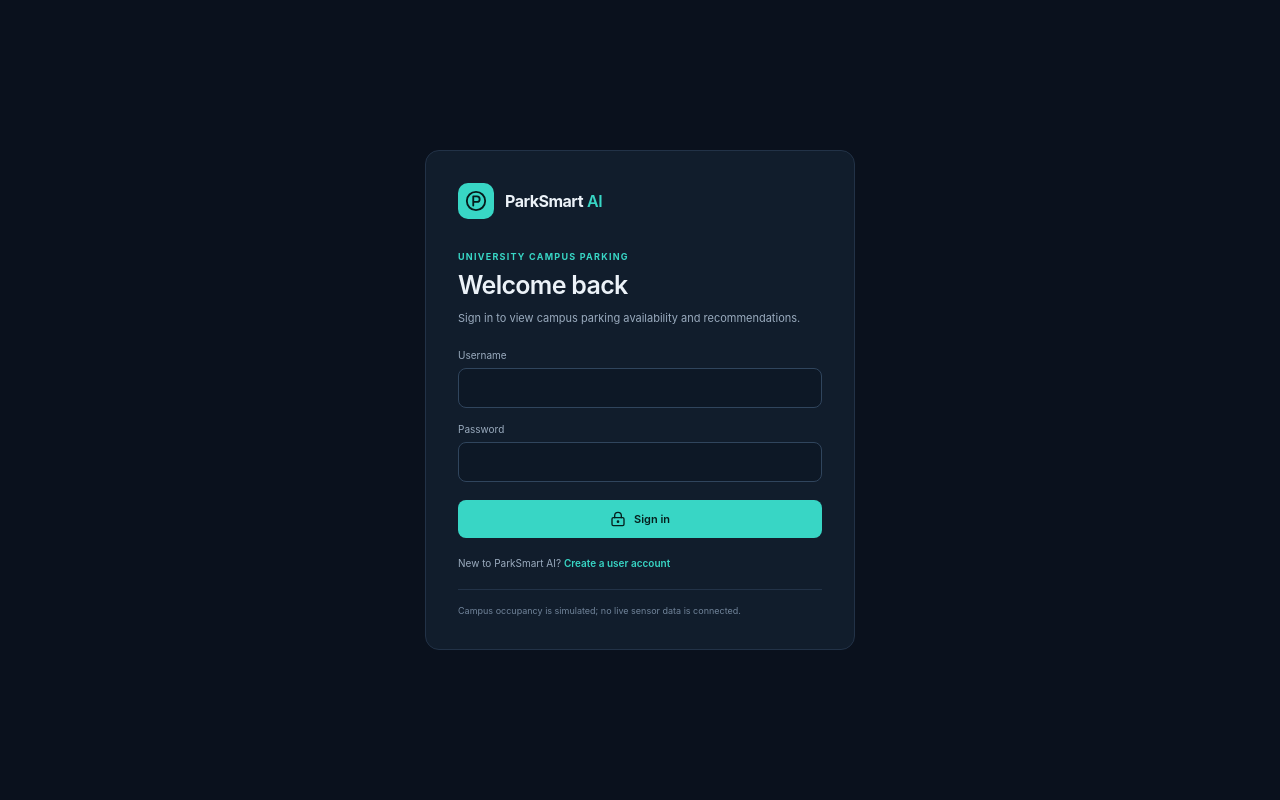
Test: ParkSmart campus dashboard › redirects unauthenticated visitors to login and admins to the admin portal
Expected: the heading "Welcome back" is shown, [458,270,628,300]
Type "campus-admin" into the field labelled "Username" at (640, 388), box [458,368,822,408]
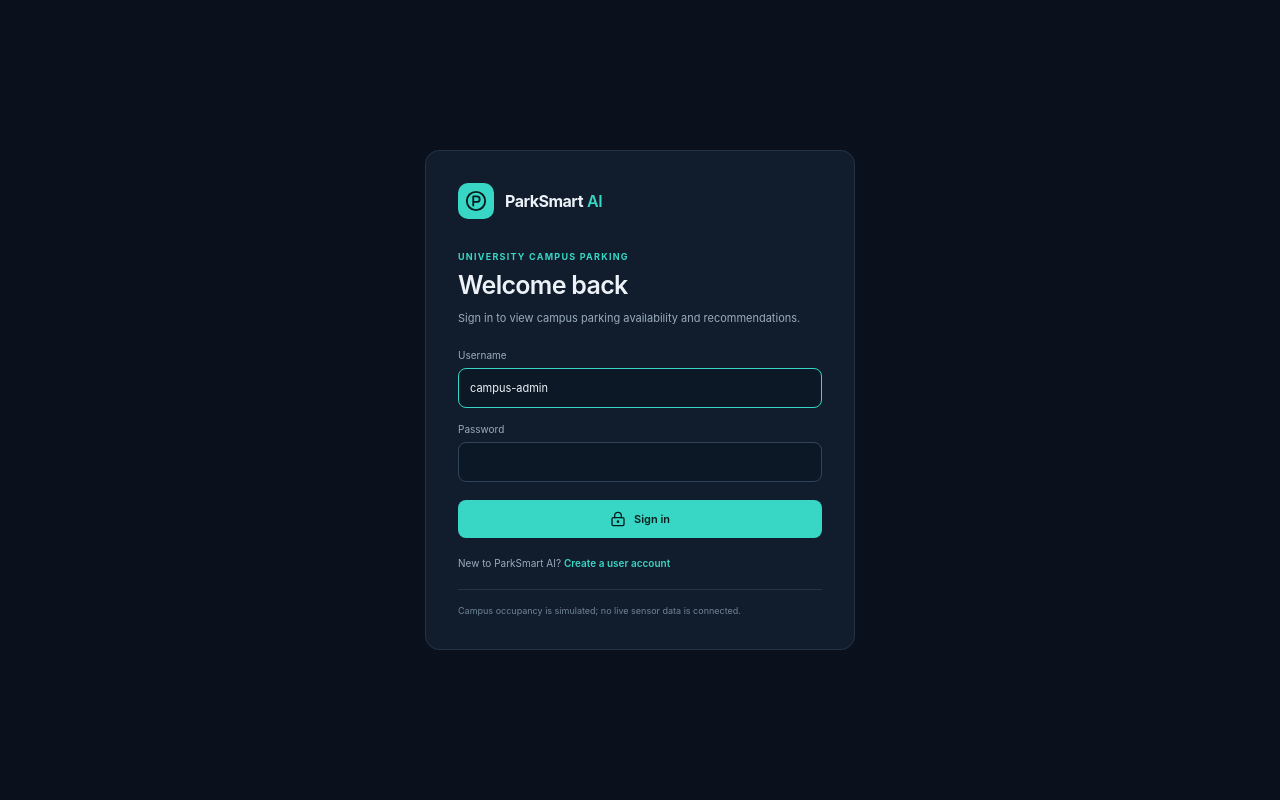
Type "password-for-test" into the password field labelled "Password" at (640, 462), box [458,442,822,482]
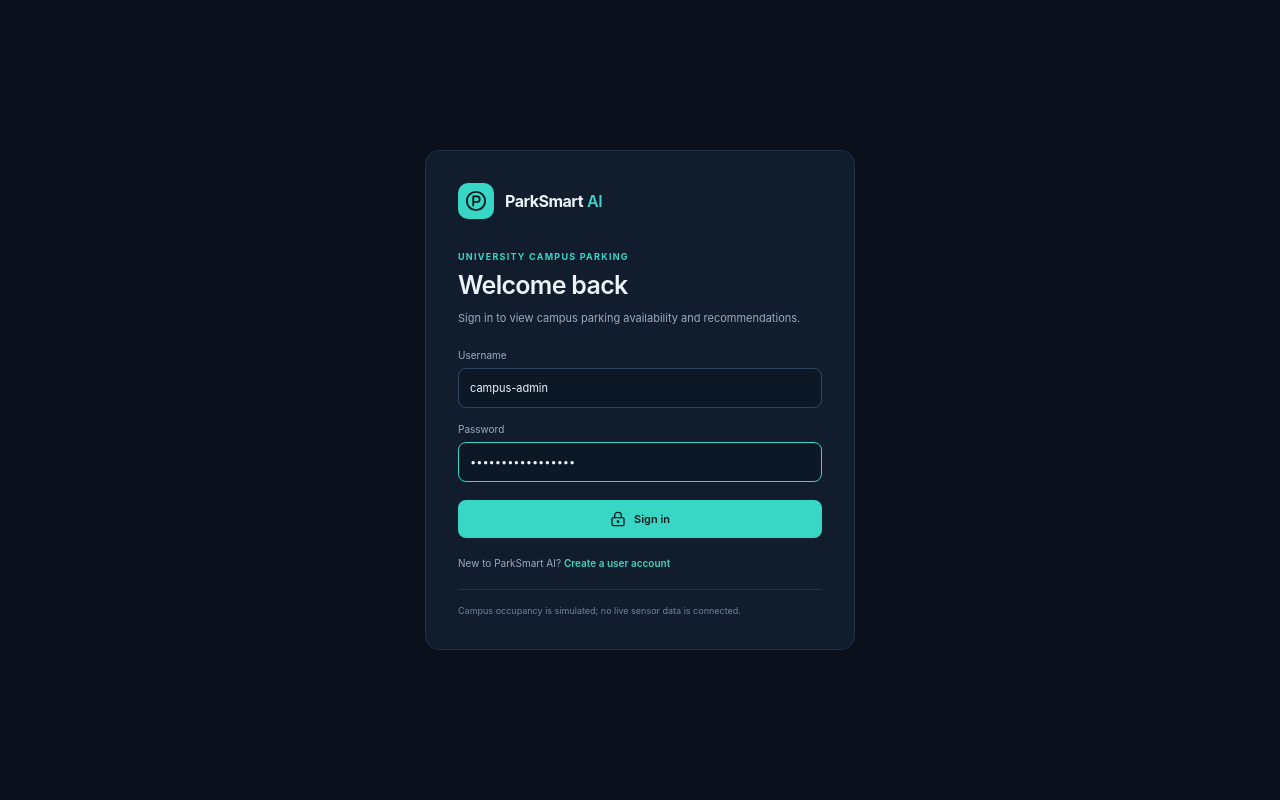
Click the button "Sign in" at (640, 519), box [458,500,822,538]
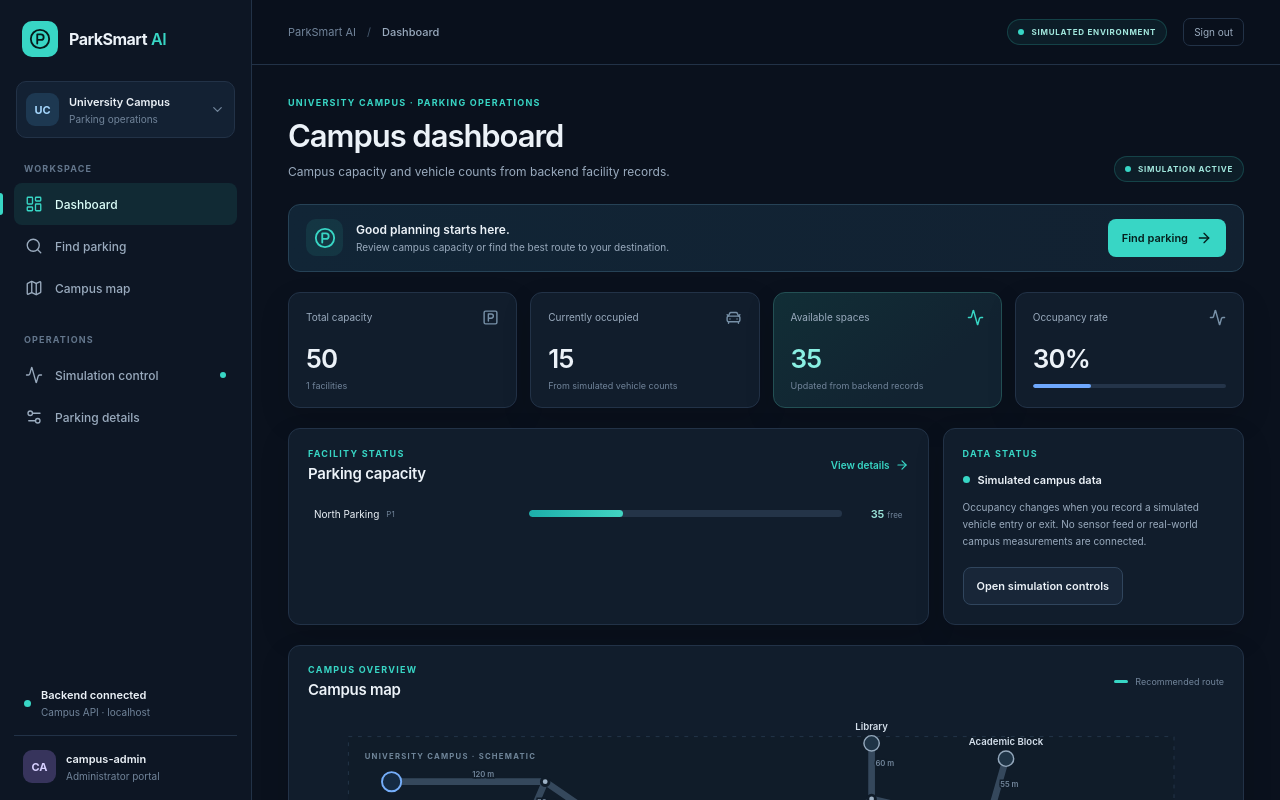
Result: the text "Backend connected" is shown at [41,688,146,702]
Result: the button "Simulation control" is shown at [14,354,237,396]
